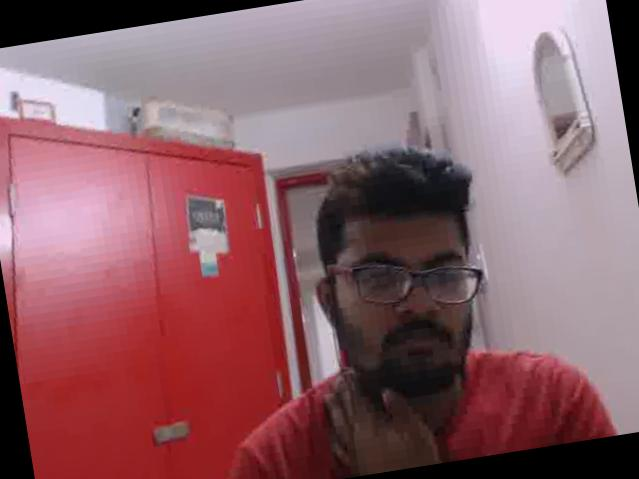bingung: (320, 192, 493, 402)
